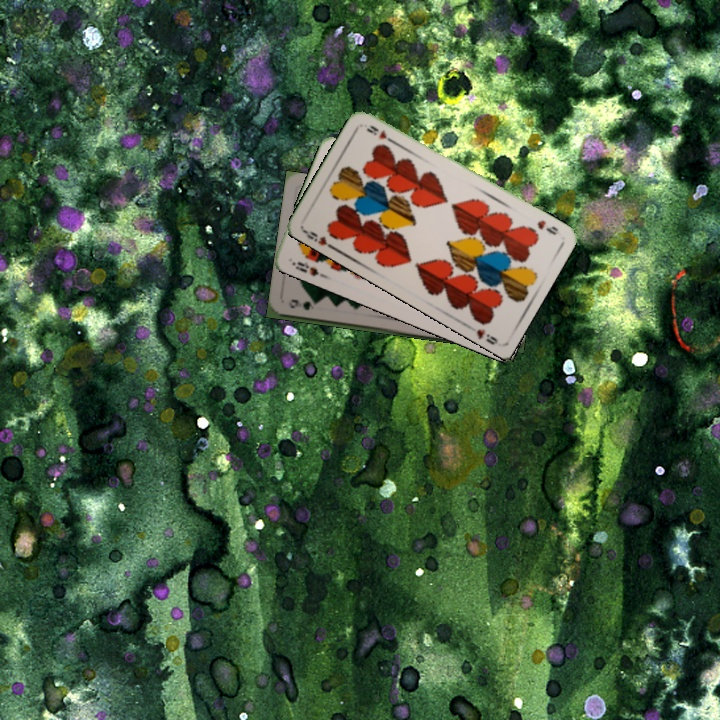G9: (287, 296, 321, 313)
H9: (300, 226, 337, 252), (533, 216, 561, 238)
S8: (293, 257, 321, 278)
